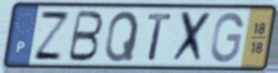B: (65, 9, 106, 64)
G: (208, 11, 245, 65)
Q: (103, 9, 141, 64)
T: (146, 11, 174, 63)
X: (169, 9, 215, 66)
Z: (31, 9, 73, 62)
